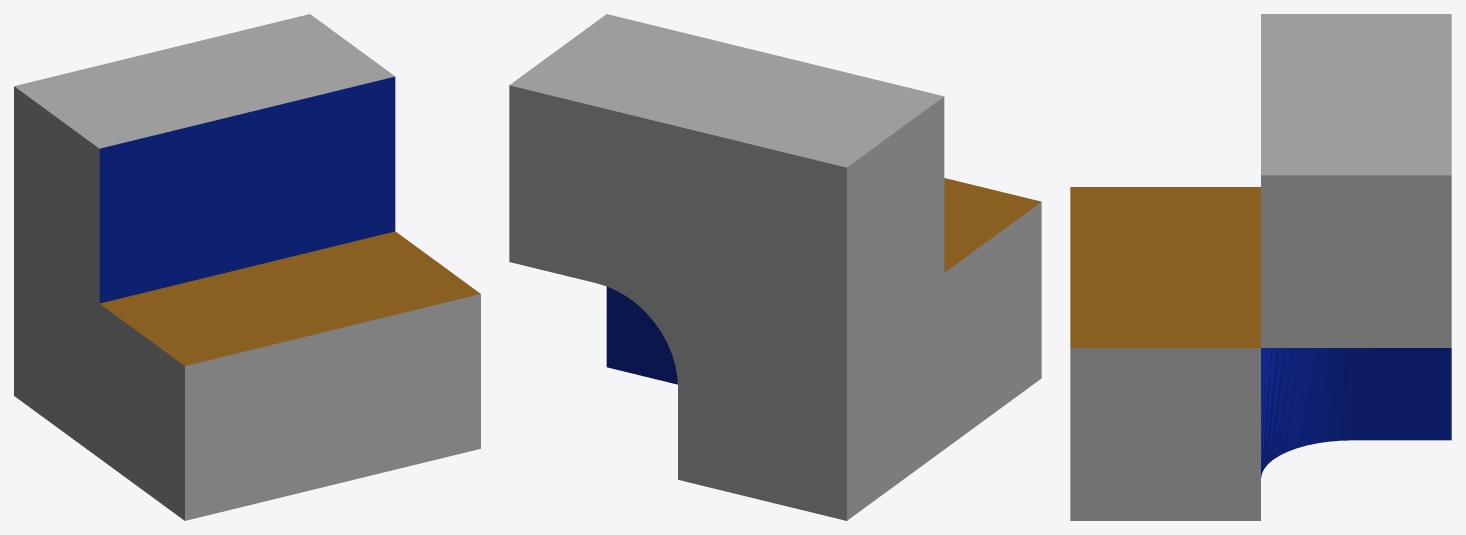
File: case_61.fbx
3 views of the same model, side by side, from view 1: azimuth 30°, elevation 25°; view 2: azimuth 150°, elevation 25°; view 3: azimuth 270°, elevation 25° (orthographic). The views are drawn at different scales.
Visible parts, largest first — view 1: case_61; view 2: case_61; view 3: case_61.
Part boxes in pixels (box(x1,y1,x2,y2)): case_61: box(14, 14, 480, 520); case_61: box(509, 14, 1041, 520); case_61: box(1070, 14, 1451, 520).
Bounding box in the file's own units: 100 × 100 × 100.
